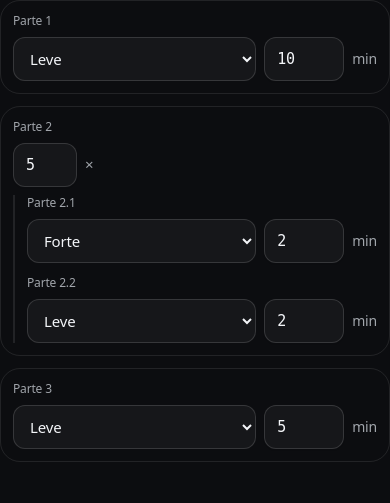
Test: BlocksEditor › speaks the language of the app
Check: the 2nd field named "Repetições" is shown, box [13,143,77,187]
Replace the text in the field named "Minutos" below "Parte 1" with "0": (304, 59) [264,37,344,81]
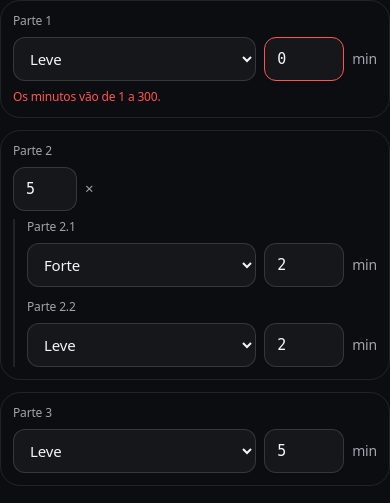
Check: the text "Os minutos vão de 1 a 300." is shown, box [13,88,161,105]
